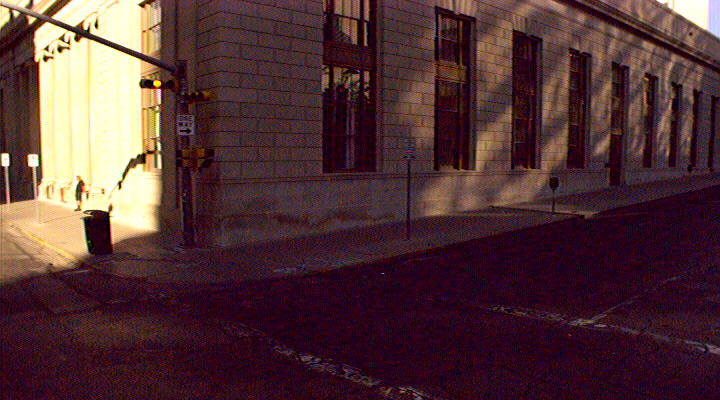Ramp: (88, 243, 315, 287)
